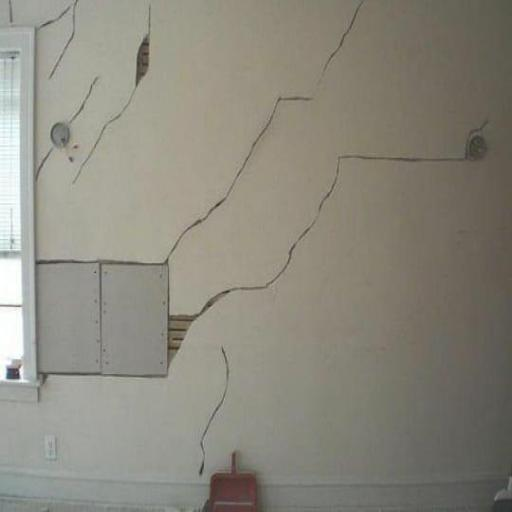spalling: (154, 5, 370, 267), (199, 147, 456, 330), (72, 11, 156, 185), (37, 72, 102, 183), (191, 348, 234, 473), (38, 2, 81, 84)
